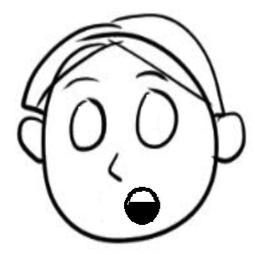ear: (208, 107, 251, 167), (14, 115, 61, 167)
empty_eye: (135, 88, 180, 153), (66, 93, 110, 153)
eyebrow: (64, 76, 107, 91), (132, 67, 172, 82)
open_mouth: (117, 184, 166, 227)
pointy_nose: (106, 148, 122, 183)
